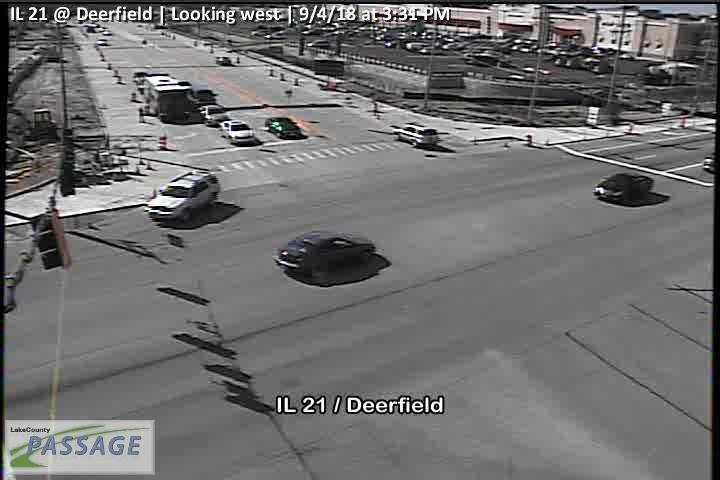SUV: (144, 172, 218, 224), (396, 122, 439, 147)
Sedan: (274, 230, 375, 276), (594, 171, 653, 201), (220, 120, 256, 145), (264, 116, 300, 137), (198, 104, 227, 126)
Truck: (141, 75, 195, 125)
